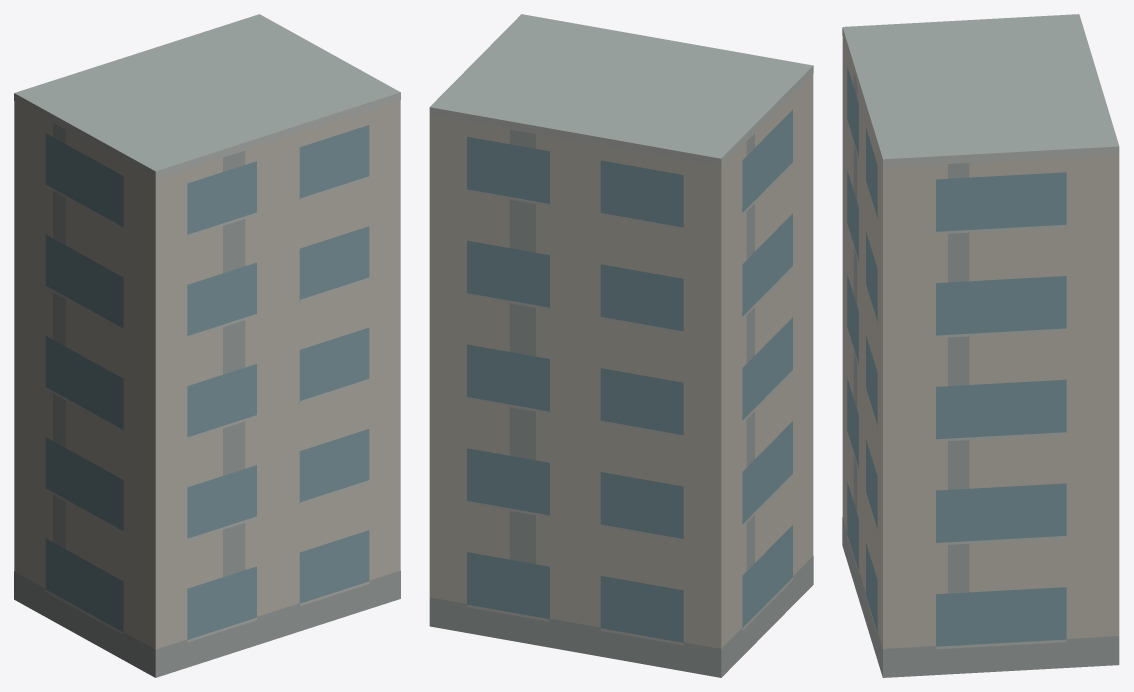
The model's file is residential-54652140-7e47-46c1-962f-90cf91024e7b.glb.
3 renders of one model, left to right at view 1: azimuth 30°, elevation 25°; view 2: azimuth 150°, elevation 25°; view 3: azimuth 270°, elevation 25°, orthographic. The views are drawn at different scales.
Parts seen in each view (by area): view 1: residential-54652140-7e47-46c1-962f-90cf91024e7b.tmp; view 2: residential-54652140-7e47-46c1-962f-90cf91024e7b.tmp; view 3: residential-54652140-7e47-46c1-962f-90cf91024e7b.tmp.
Part boxes in pixels (x1,y1,x2,y2): residential-54652140-7e47-46c1-962f-90cf91024e7b.tmp: (14, 14, 400, 677); residential-54652140-7e47-46c1-962f-90cf91024e7b.tmp: (429, 14, 813, 677); residential-54652140-7e47-46c1-962f-90cf91024e7b.tmp: (842, 14, 1119, 677).
Size of the model in its own units: 9.17 by 15.25 by 7.39.
